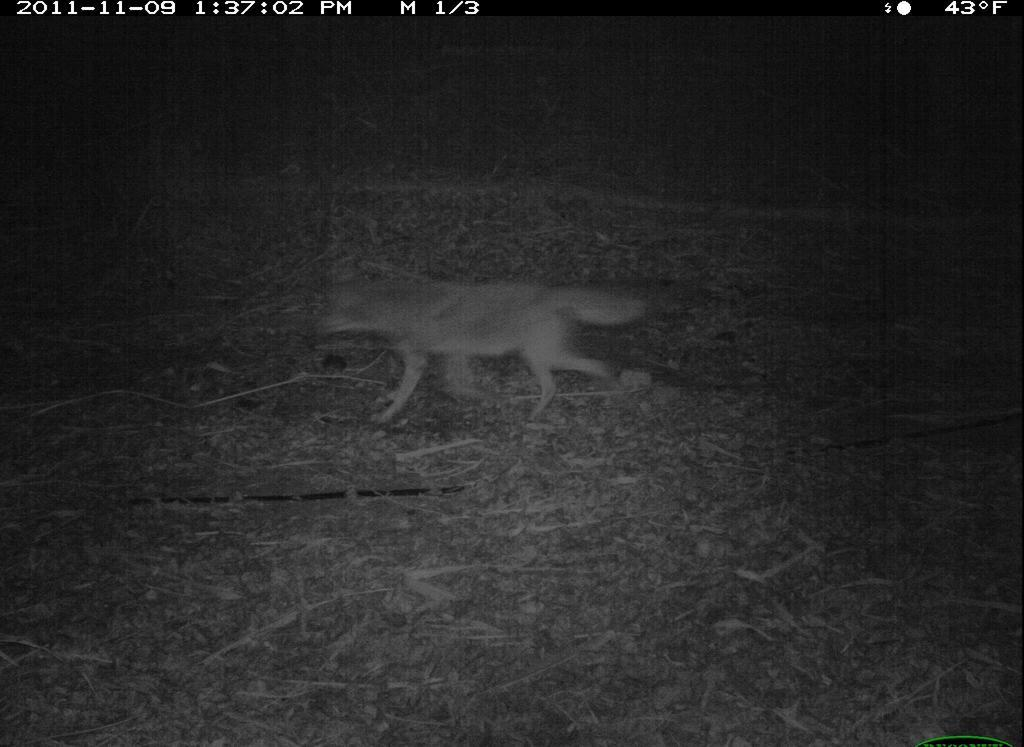coyote: (309, 246, 658, 432)
